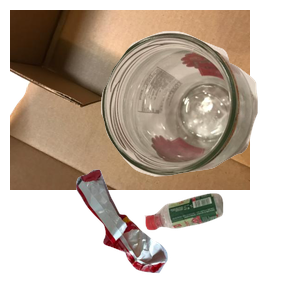cardboard: (10, 10, 250, 190)
glass: (98, 29, 300, 198)
plastic: (142, 191, 300, 300)
trash: (74, 167, 235, 300)
